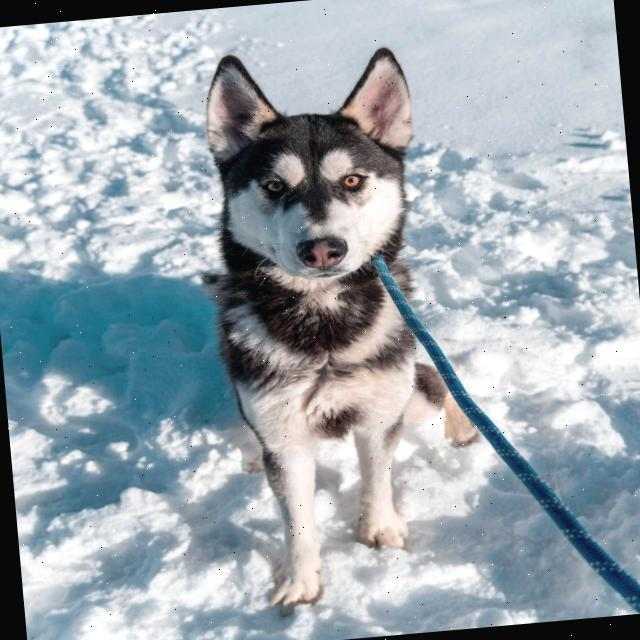siberian_husky_dog: (178, 32, 438, 316)
